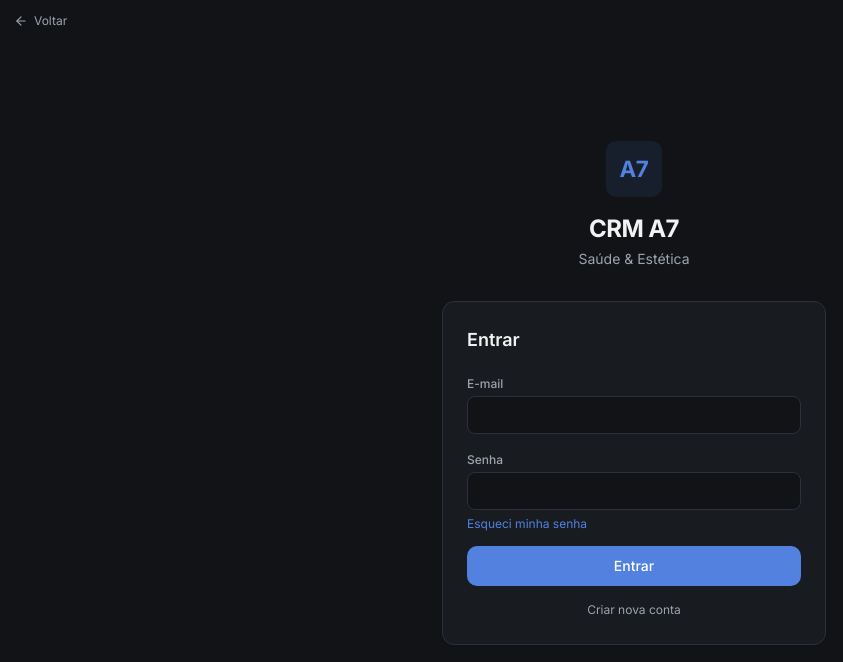
Test: tela de login › a resposta não revela se a conta existe
The image size is (843, 662).
Click the button "Esqueci minha senha".
click(527, 524)  # box top-left (467, 516), bottom-right (587, 532)
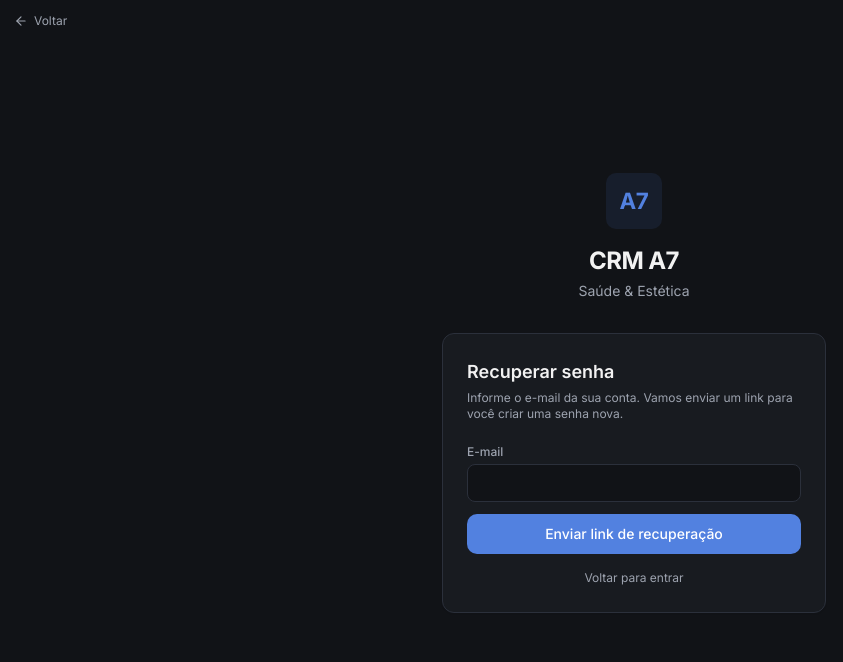
Type "ninguem@x.com" into the field labelled "E-mail".
click(634, 483); type("ninguem@x.com")  # box top-left (467, 464), bottom-right (801, 502)
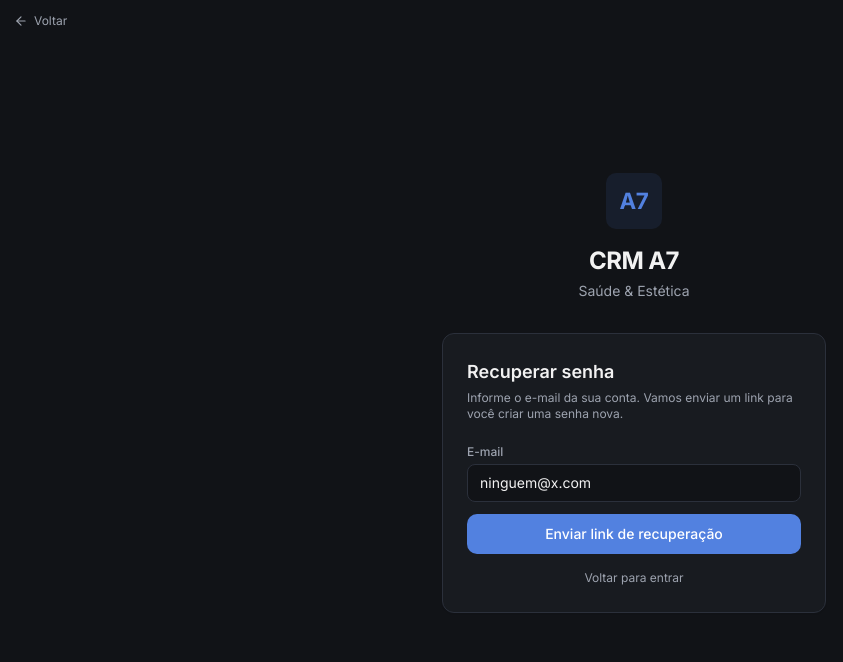
Click the button "Enviar link de recuperação".
click(634, 534)  # box top-left (467, 514), bottom-right (801, 554)
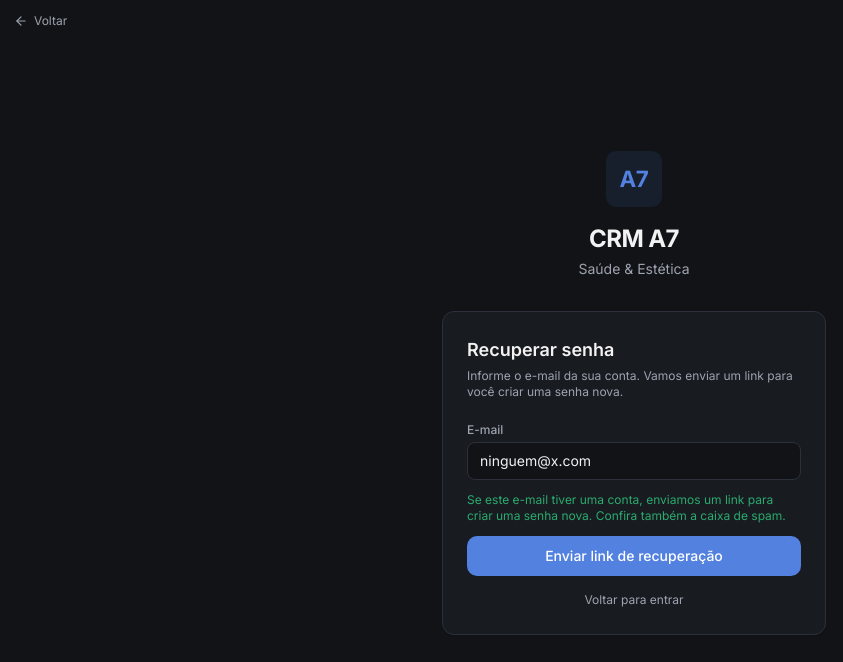
expect the message shows "Se este e-mail tiver uma conta": met, box top-left (467, 492), bottom-right (786, 523)
